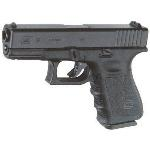Pistol: (3, 20, 149, 128)
